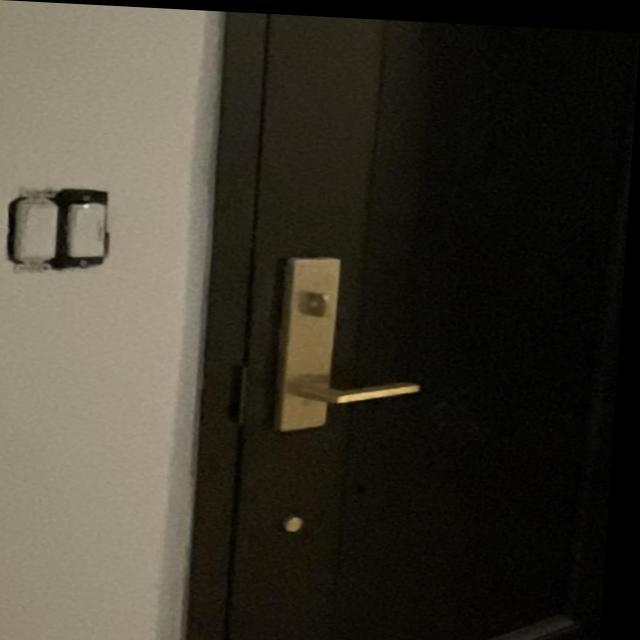door_handle: (270, 349, 440, 416)
